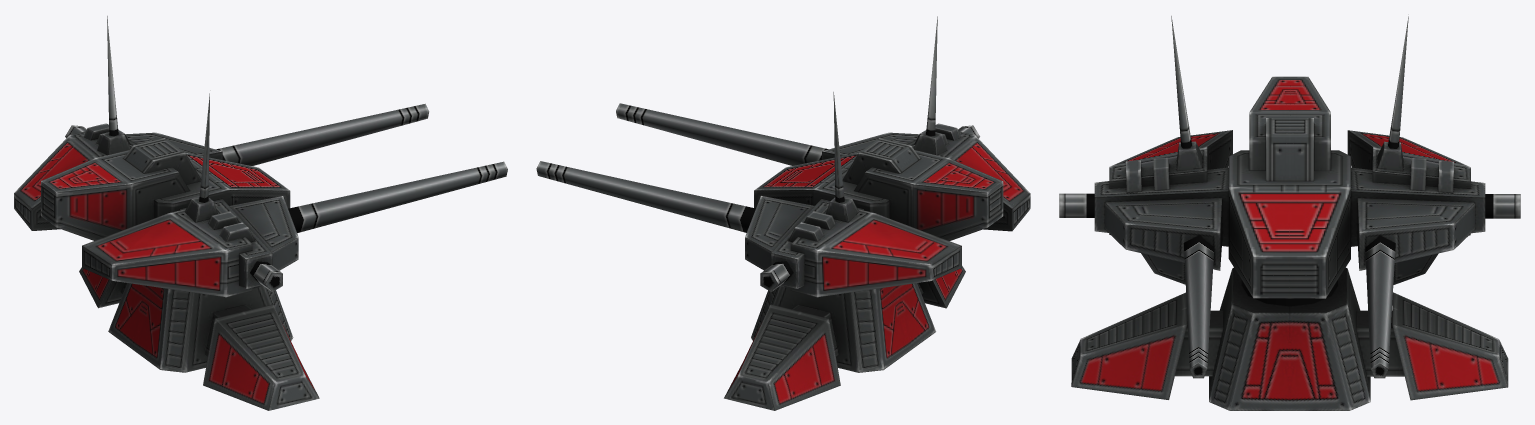
Rendered from orbital_turret.FBX.
3 views of the same model, side by side, from view 1: azimuth 30°, elevation 25°; view 2: azimuth 150°, elevation 25°; view 3: azimuth 270°, elevation 25° (orthographic). The views are drawn at different scales.
Parts seen in each view (by area): view 1: Box02; view 2: Box02; view 3: Box02.
Boxes of the visible parts, x1,y1,x2,y2 form: Box02: (14,16,507,410); Box02: (536,16,1030,410); Box02: (1059,16,1520,410).
Bounding box in the file's own units: 30.35 × 20.43 × 25.42.
1 material, 1 textured.
